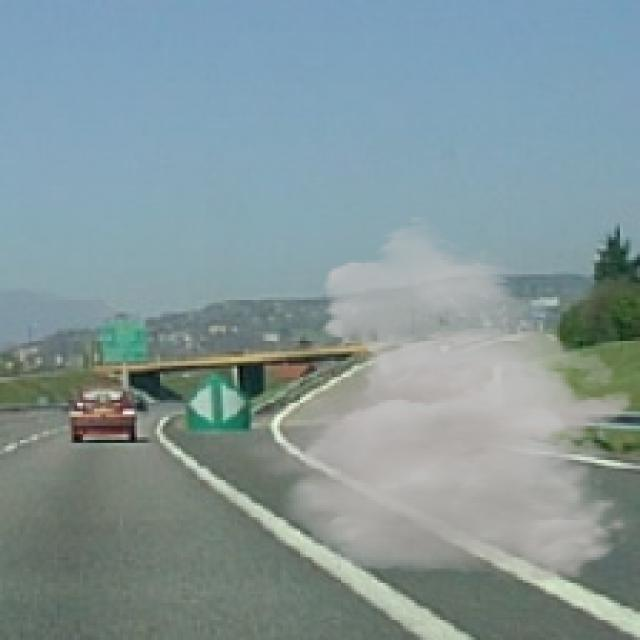smoke: (237, 214, 634, 583)
